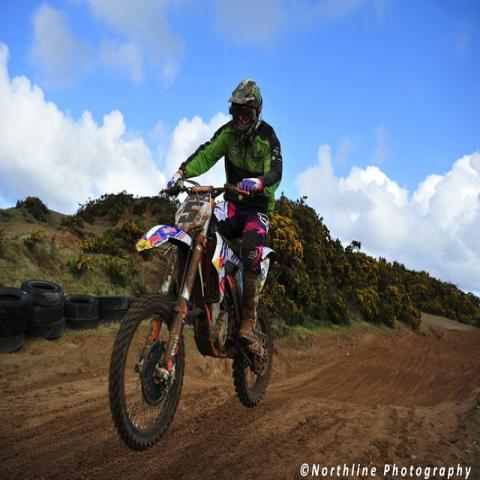motorcycle: (108, 179, 276, 452)
